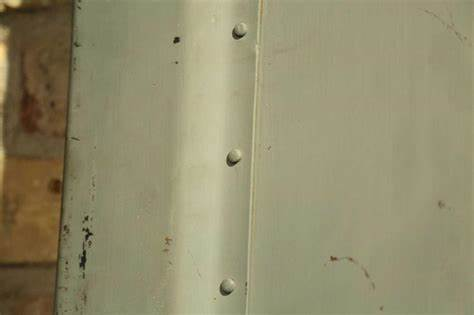rivet: (219, 278, 238, 298), (231, 22, 250, 42), (225, 148, 244, 167)
